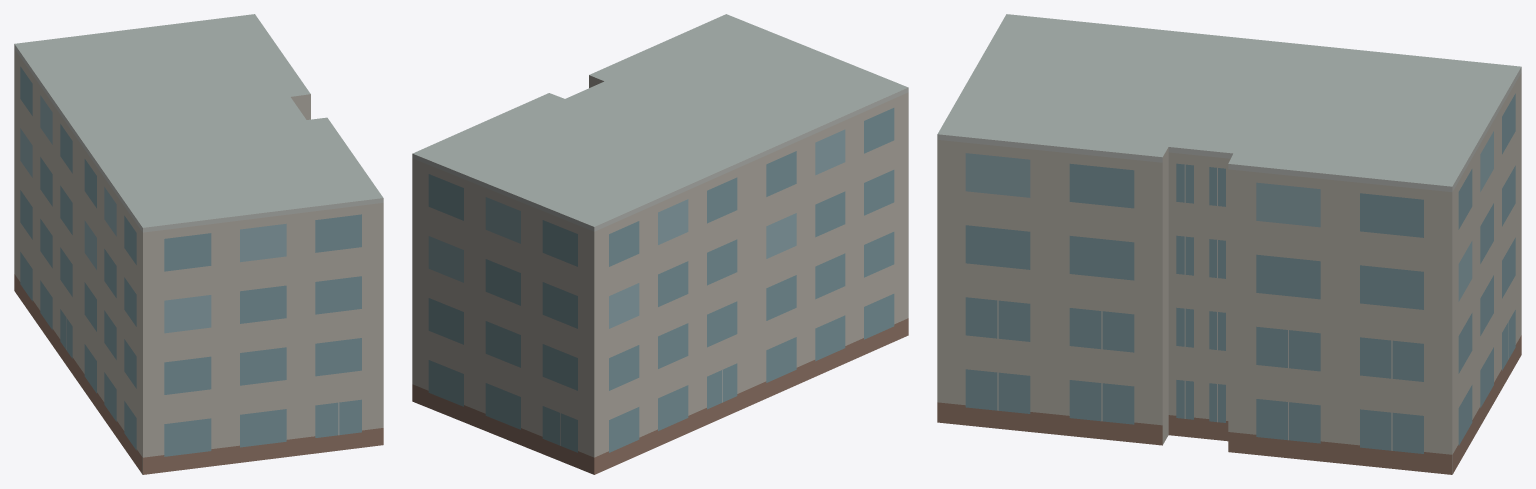
The model's file is survey-upis-32983068.glb.
The picture shows the model from 3 angles, left to right: view 1: azimuth 30°, elevation 25°; view 2: azimuth 150°, elevation 25°; view 3: azimuth 270°, elevation 25°; orthographic projection. The views are drawn at different scales.
Parts seen in each view (by area): view 1: survey-upis-32983068.tmp; view 2: survey-upis-32983068.tmp; view 3: survey-upis-32983068.tmp.
Boxes of the visible parts, x1,y1,x2,y2 form: survey-upis-32983068.tmp: [14, 14, 383, 474]; survey-upis-32983068.tmp: [412, 14, 908, 474]; survey-upis-32983068.tmp: [937, 14, 1521, 474].
Bounding box in the file's own units: 16.29 × 12.68 × 23.29.
